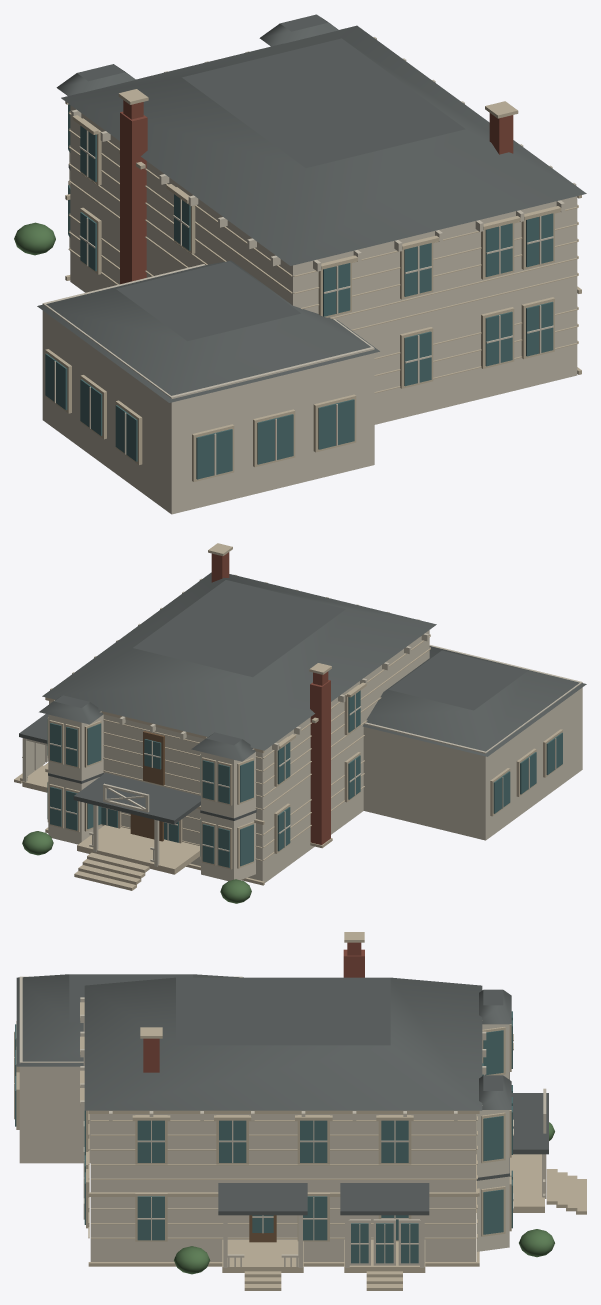
Rendered from collier-house-exterior-lower-bays-2026-11-04.glb.
The picture shows the model from 3 angles, top to bottom: view 1: azimuth 30°, elevation 25°; view 2: azimuth 150°, elevation 25°; view 3: azimuth 270°, elevation 25°; orthographic projection. The views are drawn at different scales.
Parts seen in each view (by area): view 1: collier-part-0, collier-part-1; view 2: collier-part-0, collier-part-1; view 3: collier-part-0, collier-part-1.
Boxes of the visible parts, left/top/right/bottom form: collier-part-0: left=37, top=14, right=586, bottom=514; collier-part-1: left=14, top=222, right=55, bottom=255; collier-part-0: left=14, top=543, right=586, bottom=890; collier-part-1: left=22, top=831, right=251, bottom=903; collier-part-0: left=14, top=932, right=586, bottom=1290; collier-part-1: left=174, top=1122, right=554, bottom=1274.
Size of the model in its own units: 26.65 by 11.82 by 28.24.
